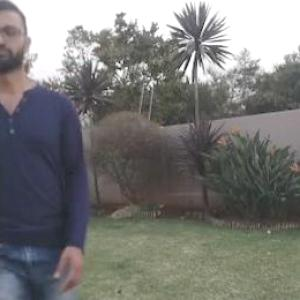follow: (2, 0, 100, 299)
